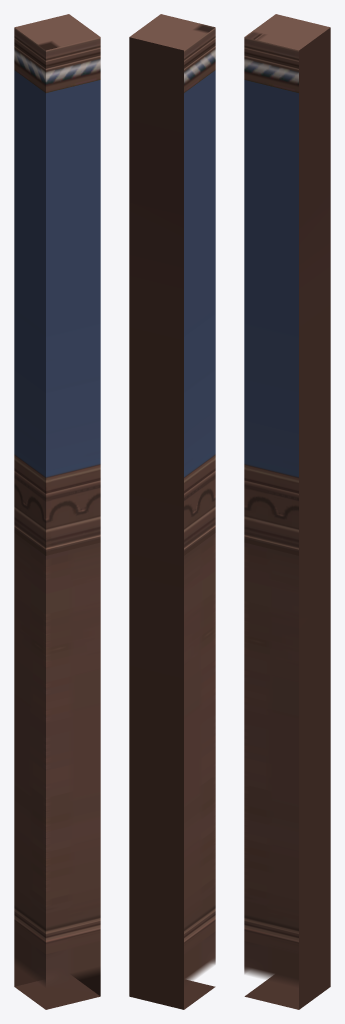
The model's file is my_wildhunt_01_wall_side.glb.
3 renders of one model, left to right at view 1: azimuth 30°, elevation 25°; view 2: azimuth 150°, elevation 25°; view 3: azimuth 330°, elevation 25°, orthographic.
Parts seen in each view (by area): view 1: my_wildhunt_01_wall_side; view 2: my_wildhunt_01_wall_side; view 3: my_wildhunt_01_wall_side.
Boxes of the visible parts, x1,y1,x2,y2 form: my_wildhunt_01_wall_side: (14, 14, 100, 1009); my_wildhunt_01_wall_side: (129, 14, 215, 1009); my_wildhunt_01_wall_side: (244, 14, 330, 1009).
Size of the model in its own units: 0.003 by 0.0502 by 0.003.
1 material, 1 textured.
